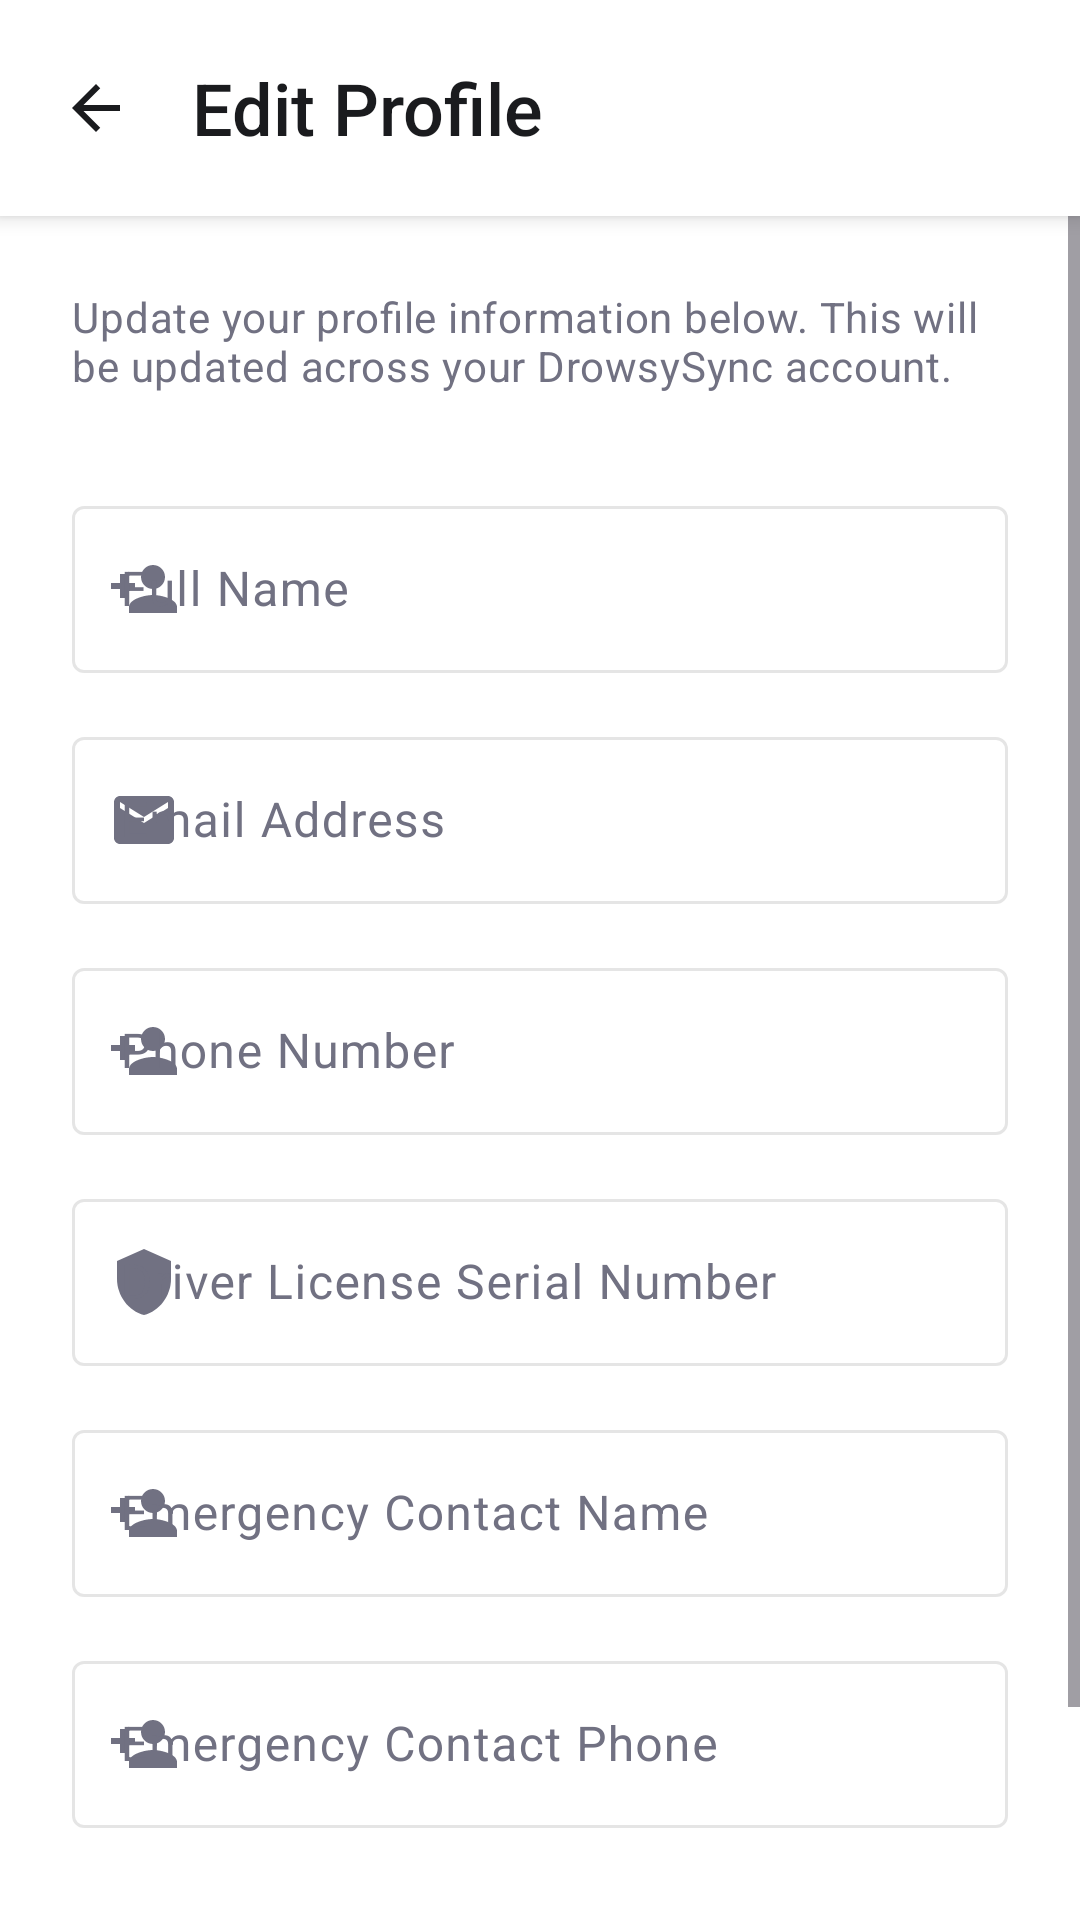

Screen size 1080px×1920px. Icon name, then its box in pixels as [left=x1, top=y1, right=x2, bottom=y2]:
Back: [left=72, top=84, right=120, bottom=132]
